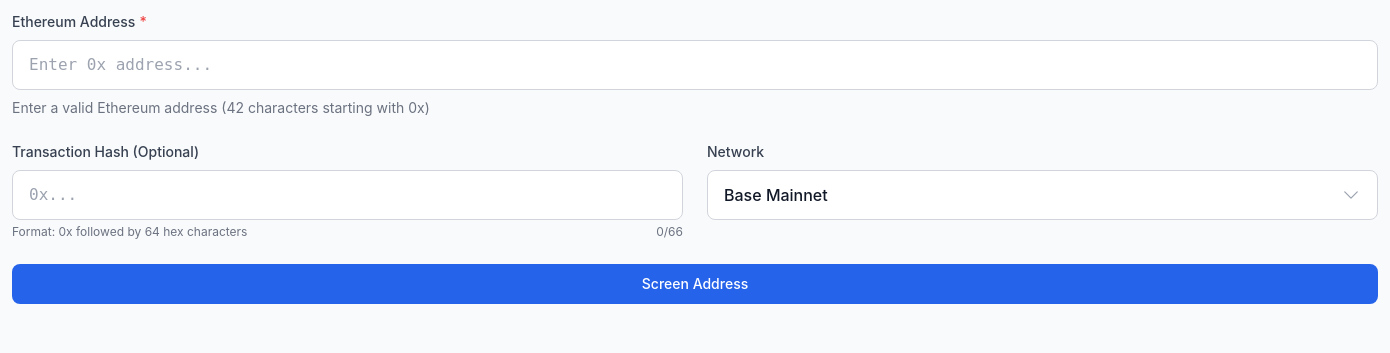
Test case: ScreenForm › shows an error for a malformed transaction hash
Type "0x1234567890123456789012345678901234567890" into the dropdown labelled "Ethereum Address*" at (695, 65), box 12,40 -> 1378,90
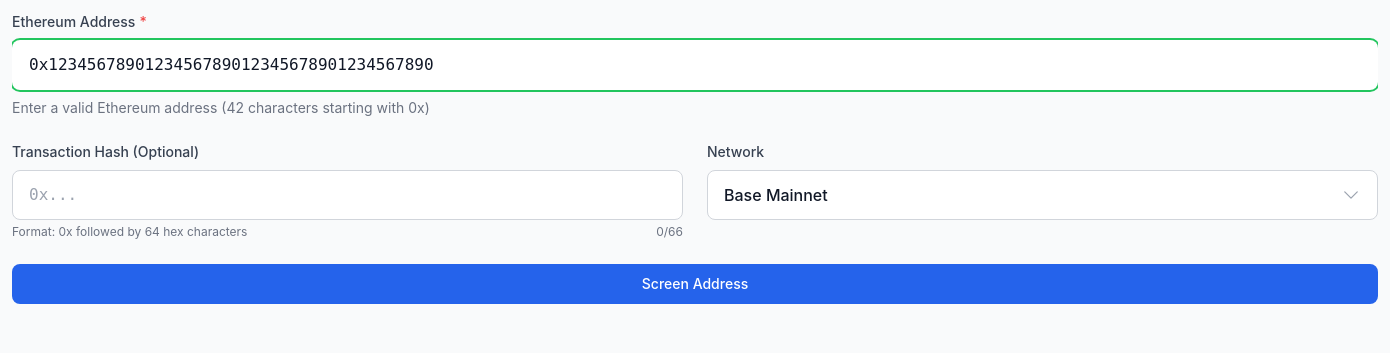
Type "0xshort" into the field labelled "Transaction Hash (Optional)" at (348, 195), box 12,170 -> 683,220
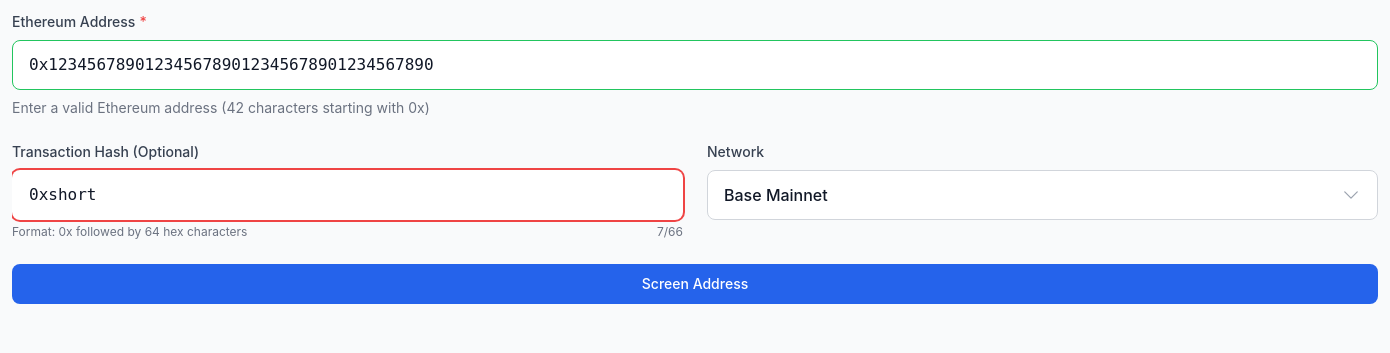
Click the button "Screen Address" at (695, 284), box 12,264 -> 1378,304
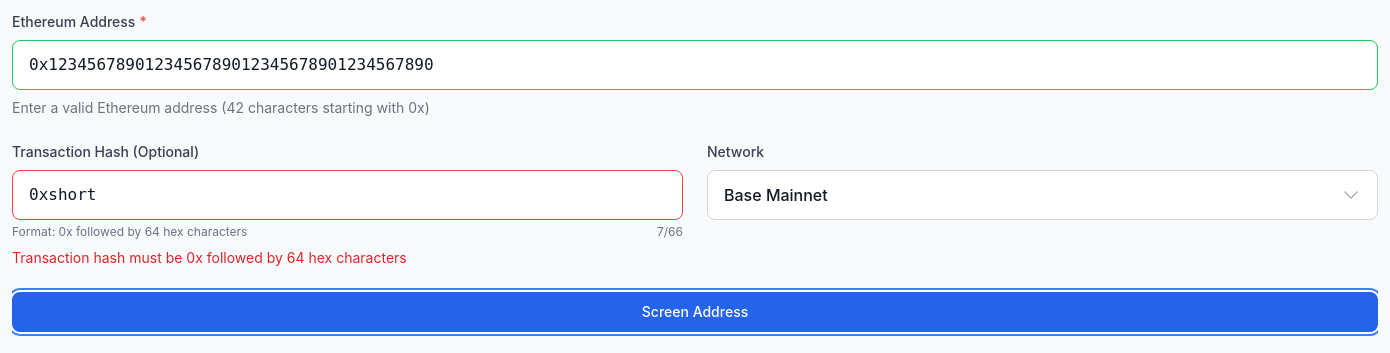
Expected: the message shows "Transaction hash", 12,249 -> 407,266
